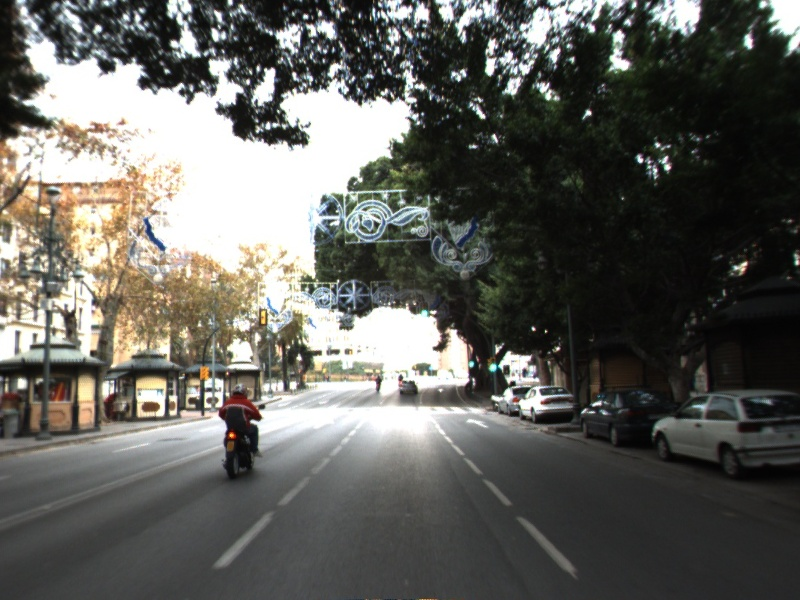STRAIGHT: (464, 416, 491, 430)
